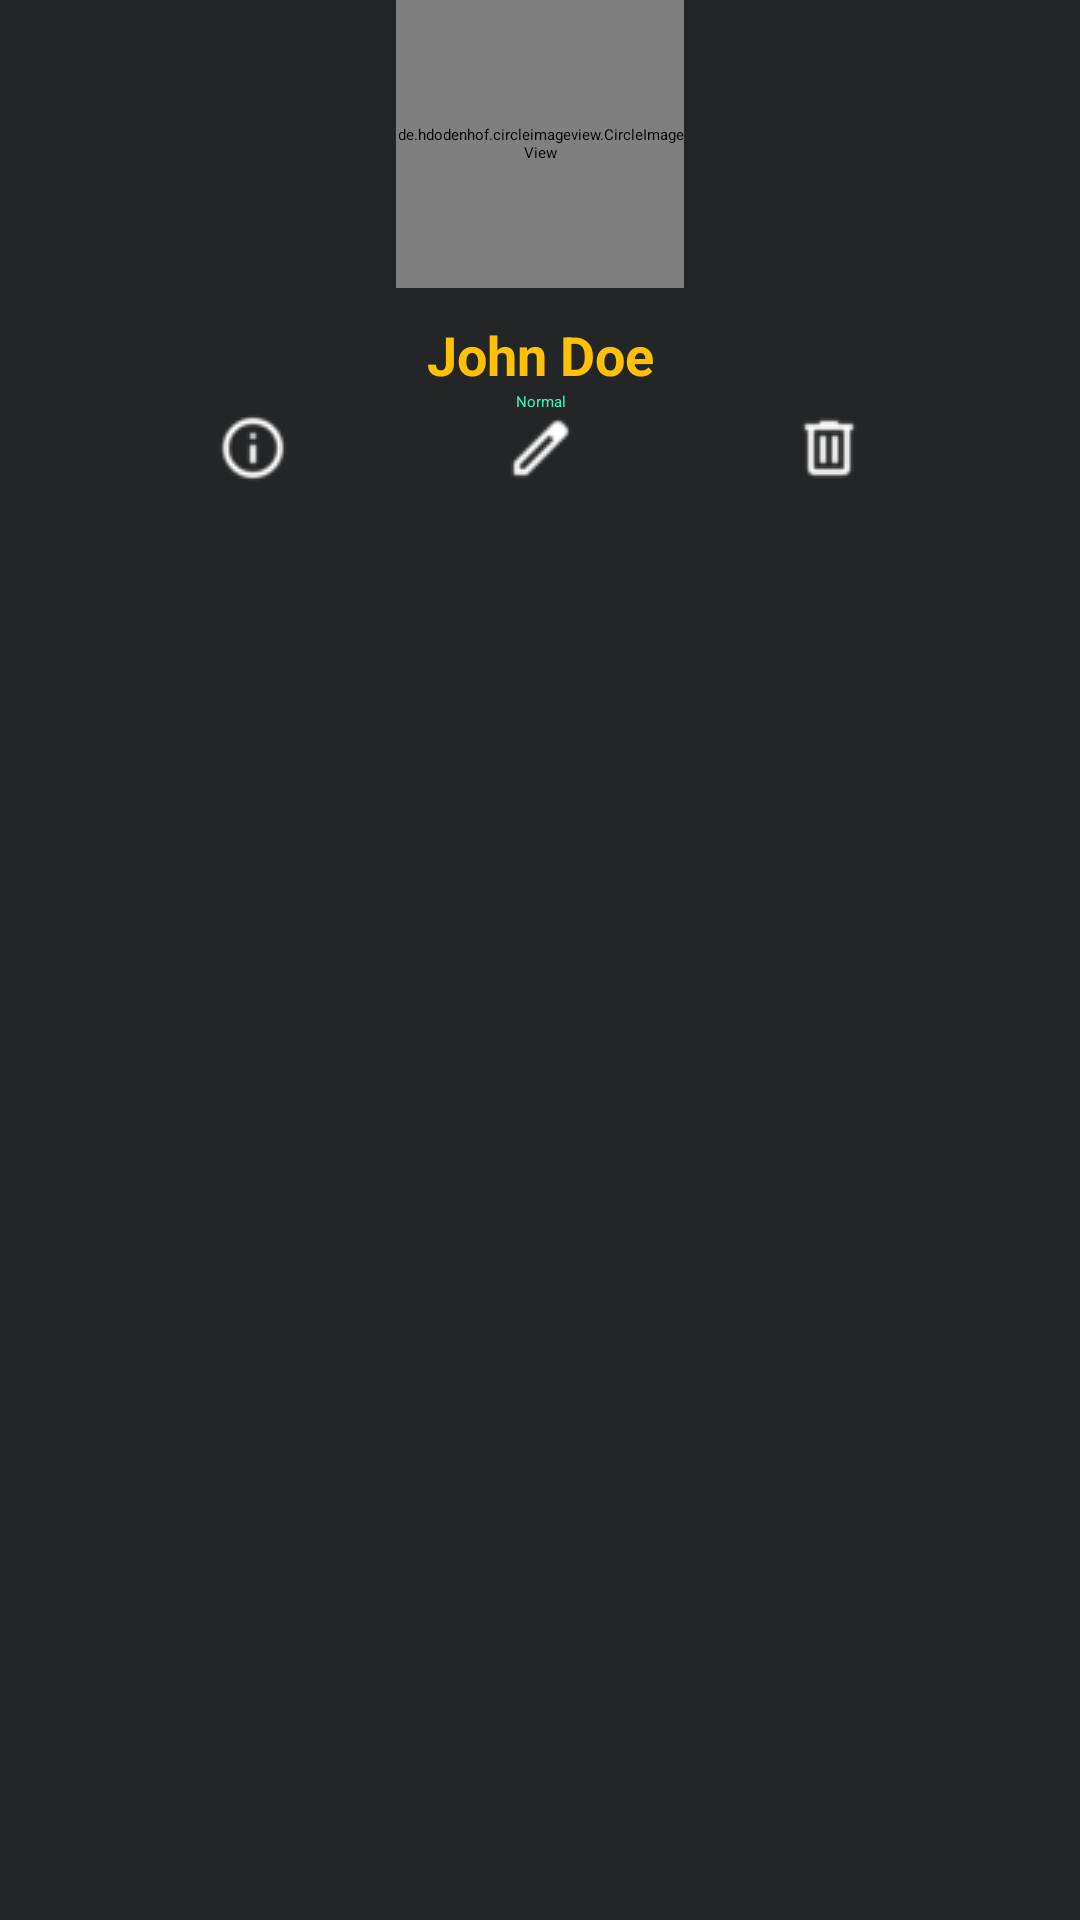

Where icons sit on this 1080 × 1920 app screen, as (x1, y1, x2, y2):
delete: (804, 419, 854, 477)
edit: (512, 420, 569, 477)
info: (222, 417, 284, 479)
